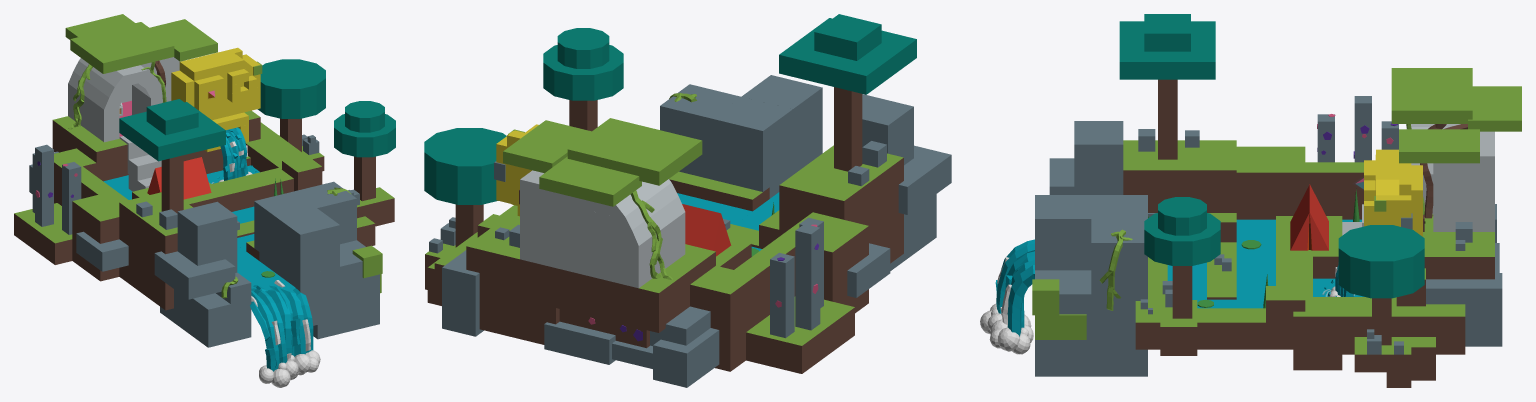
3 views of the same model, side by side, from view 1: azimuth 30°, elevation 25°; view 2: azimuth 150°, elevation 25°; view 3: azimuth 270°, elevation 25° (orthographic). The views are drawn at different scales.
Parts seen in each view (by area): view 1: node_MeshObject1610884032-PolyPaper10, node_MeshObject-1017531776-PolyPaper21, node_MeshObject2129604096-PolyPaper21; view 2: node_MeshObject-1017531776-PolyPaper21, node_MeshObject1610884032-PolyPaper10, node_MeshObject2129604096-PolyPaper21; view 3: node_MeshObject1610884032-PolyPaper10, node_MeshObject-1017531776-PolyPaper21, node_MeshObject2129604096-PolyPaper21.
Boxes of the visible parts, x1=… form: node_MeshObject1610884032-PolyPaper10: x1=35, y1=19, x2=379, y2=387; node_MeshObject-1017531776-PolyPaper21: x1=14, y1=47, x2=394, y2=383; node_MeshObject2129604096-PolyPaper21: x1=29, y1=14, x2=395, y2=384; node_MeshObject-1017531776-PolyPaper21: x1=434, y1=28, x2=936, y2=373; node_MeshObject1610884032-PolyPaper10: x1=424, y1=14, x2=951, y2=371; node_MeshObject2129604096-PolyPaper21: x1=455, y1=45, x2=868, y2=387; node_MeshObject1610884032-PolyPaper10: x1=980, y1=14, x2=1502, y2=387; node_MeshObject-1017531776-PolyPaper21: x1=990, y1=114, x2=1494, y2=370; node_MeshObject2129604096-PolyPaper21: x1=989, y1=68, x2=1521, y2=351.
Size of the model in its own units: 1.71 by 1.31 by 2.2.
